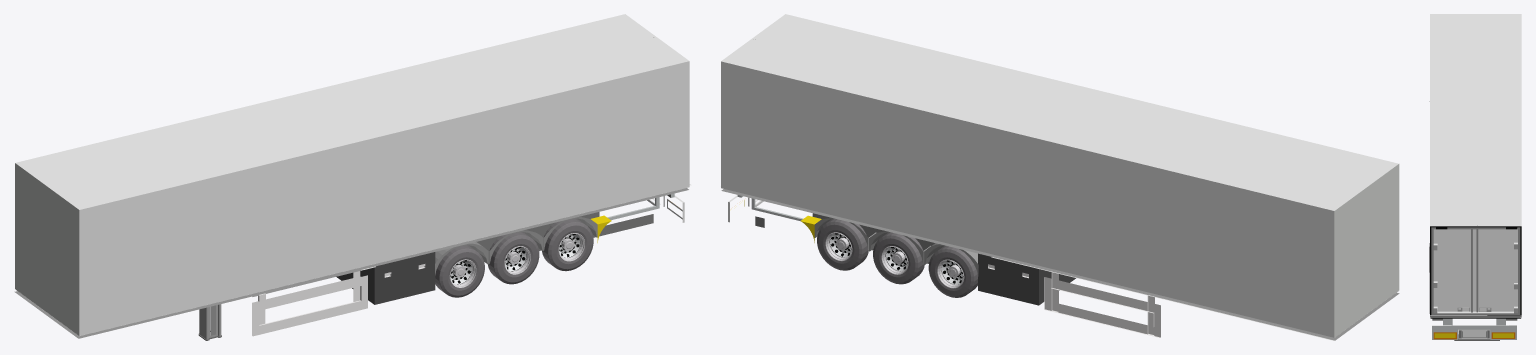
The model's file is obstacle_trailter.glb.
3 views of the same model, side by side, from view 1: azimuth 30°, elevation 25°; view 2: azimuth 150°, elevation 25°; view 3: azimuth 270°, elevation 25° (orthographic). The views are drawn at different scales.
Parts seen in each view (by area): view 1: bodycar; view 2: bodycar; view 3: bodycar.
Part boxes in pixels (x1,y1,x2,y2): bodycar: (14, 14, 691, 340); bodycar: (720, 14, 1399, 340); bodycar: (1429, 14, 1521, 340).
Size of the model in its own units: 9.24 by 2.61 by 1.71.
2 materials, 2 textured.
